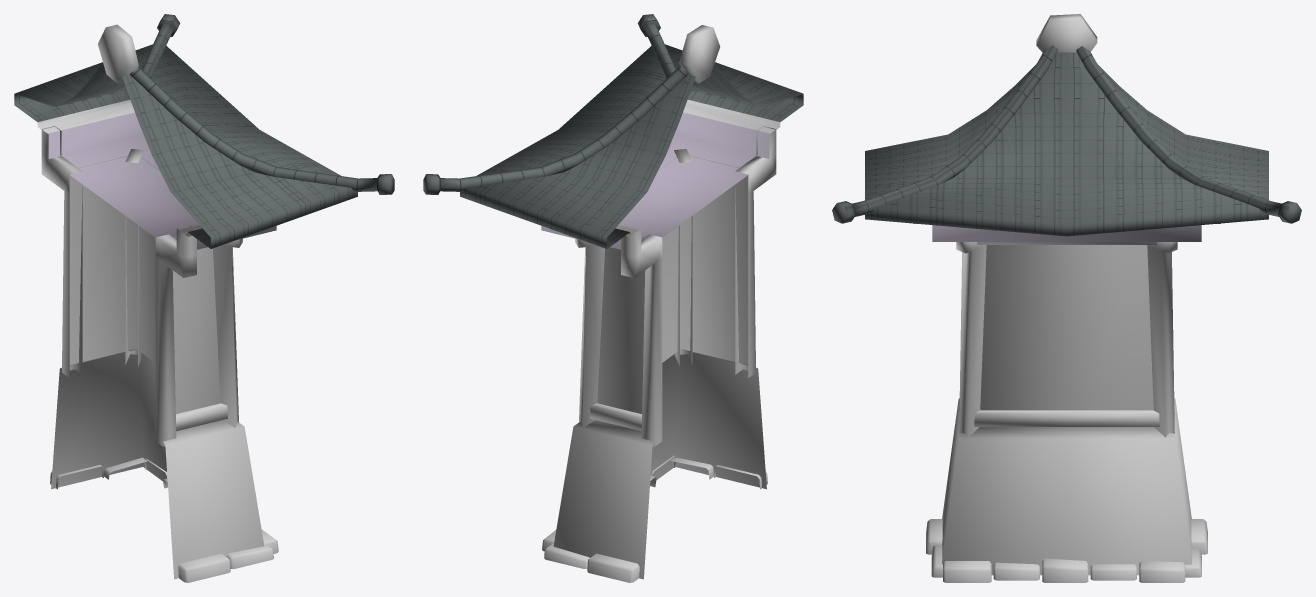
The model's file is Wall_1_5.fbx.
3 views of the same model, side by side, from view 1: azimuth 30°, elevation 25°; view 2: azimuth 150°, elevation 25°; view 3: azimuth 270°, elevation 25° (orthographic). The views are drawn at different scales.
Parts seen in each view (by area): view 1: Wall_1_5; view 2: Wall_1_5; view 3: Wall_1_5.
Part boxes in pixels (box(x1,y1,x2,y2)): Wall_1_5: box(14, 14, 394, 582); Wall_1_5: box(423, 14, 803, 582); Wall_1_5: box(832, 14, 1301, 582).
Size of the model in its own units: 3 by 8.22 by 6.79.
